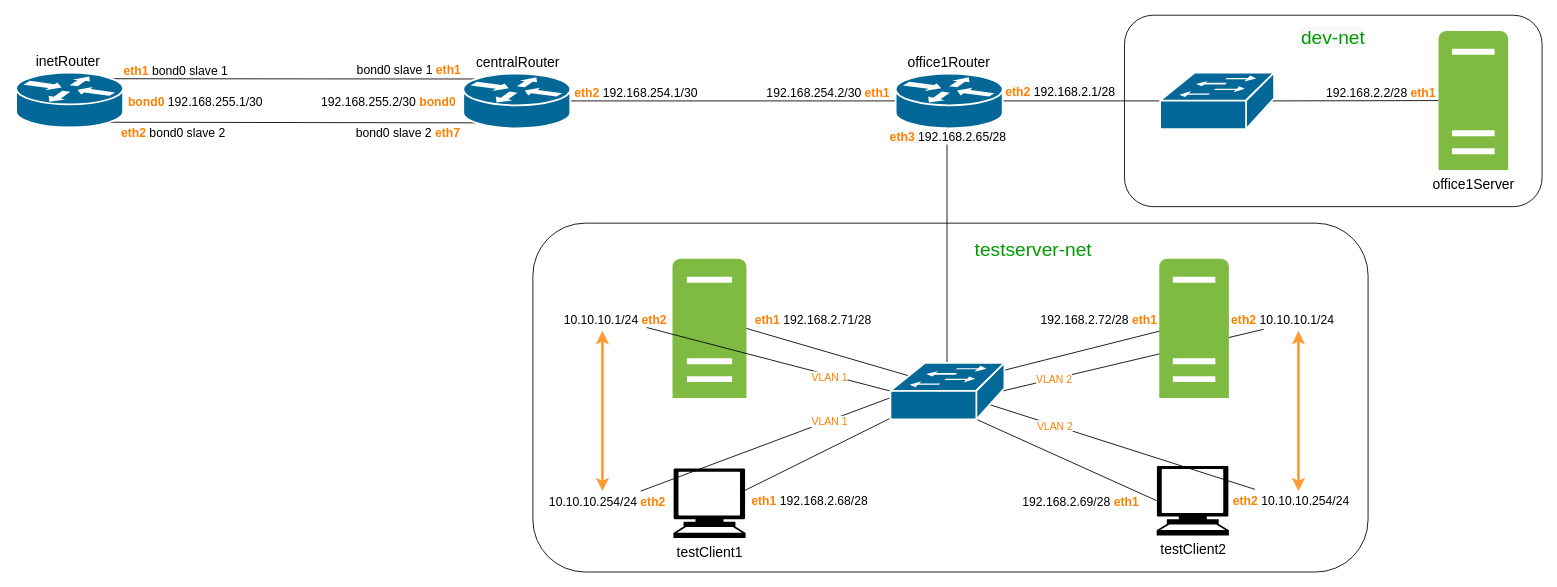
Image size: 1557x587. Some labels were removed from this diagram. Each missing label, with the centre of its shape:
"testServer1" belongs at [709,328].
"testServer2" belongs at [1193,328].
